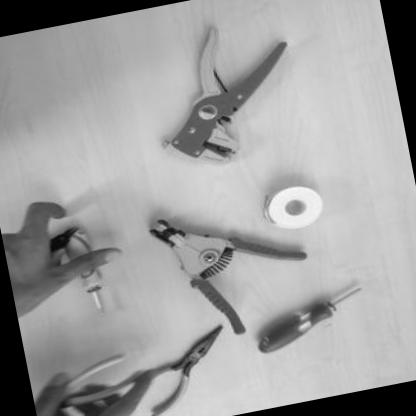Screwdriver: (244, 281, 373, 355), (53, 216, 112, 322)
